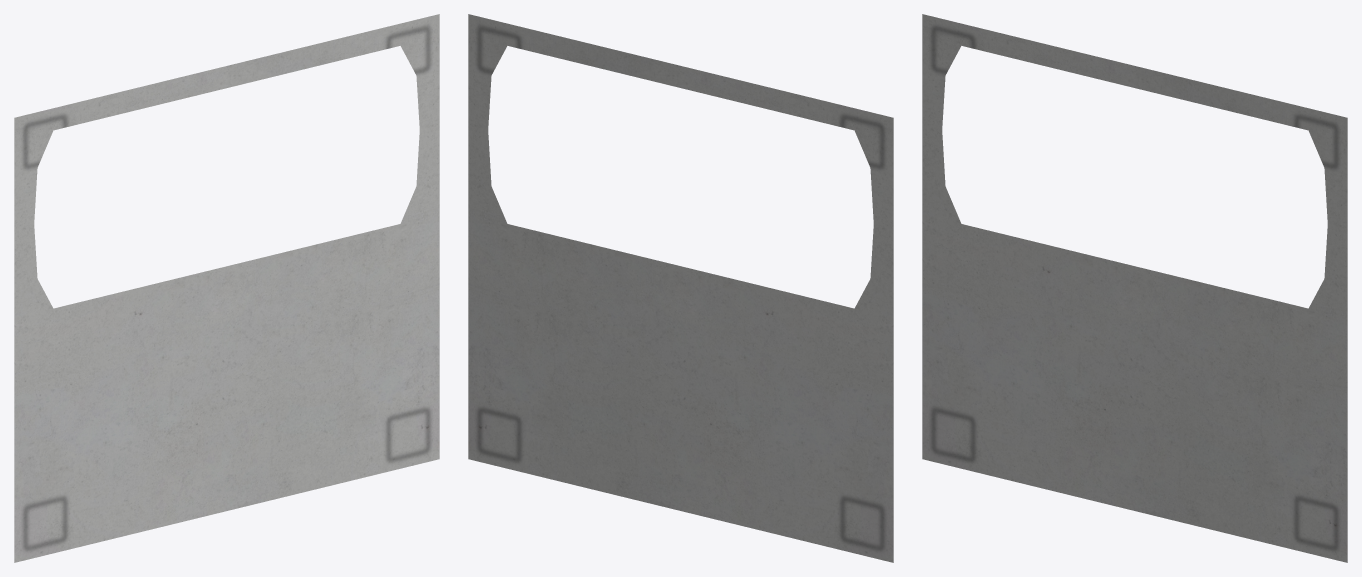
Rendered from mado.fbx.
The picture shows the model from 3 angles, left to right: view 1: azimuth 30°, elevation 25°; view 2: azimuth 150°, elevation 25°; view 3: azimuth 330°, elevation 25°; orthographic projection.
Parts seen in each view (by area): view 1: Plane; view 2: Plane; view 3: Plane.
Boxes of the visible parts, bbox=[...] form: Plane: bbox=[14, 14, 439, 562]; Plane: bbox=[468, 14, 893, 562]; Plane: bbox=[922, 14, 1347, 562].
Bounding box in the file's own units: 2 × 2 × 4.2e-06.
